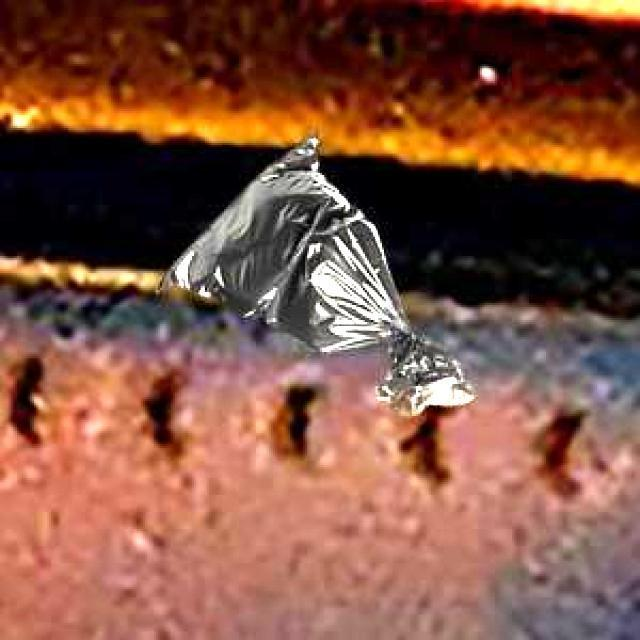Bolsa-de-nilon: (148, 125, 470, 413)
